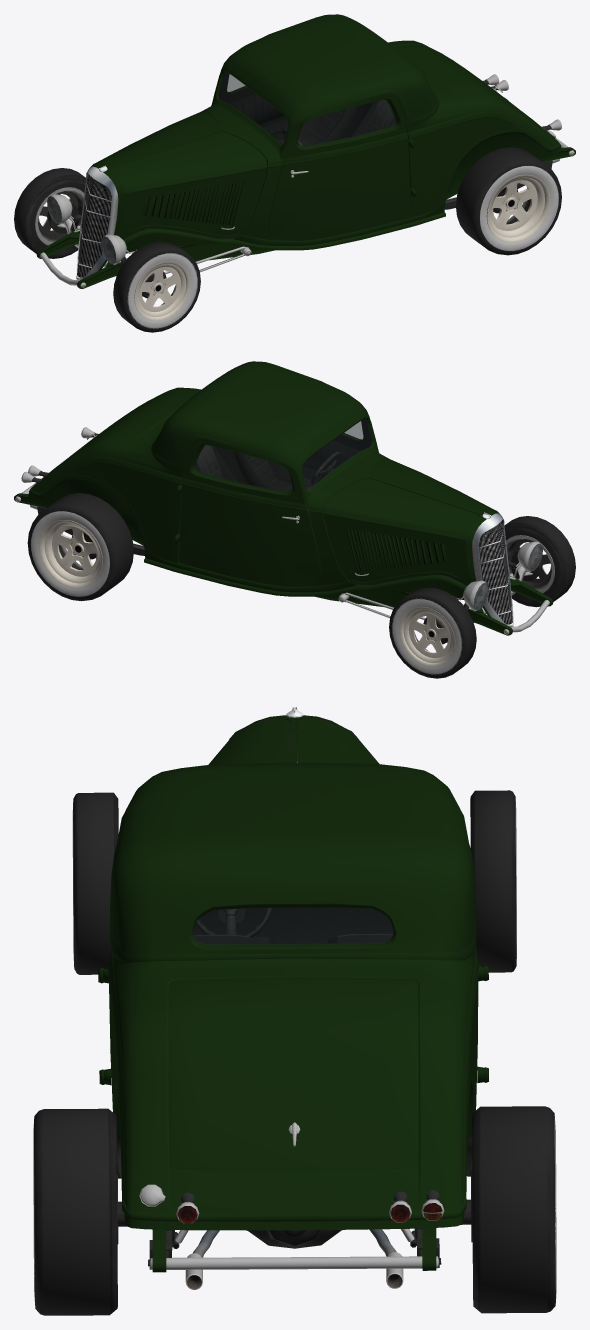
3 views of the same model, one above another, from view 1: azimuth 30°, elevation 25°; view 2: azimuth 150°, elevation 25°; view 3: azimuth 270°, elevation 25° (orthographic). The views are drawn at different scales.
Parts seen in each view (by area): view 1: body_body_0, Hood_body_0, door_left_body_0, Wheel_RL_wp_tire_01_0, Wheel_FL_wp_tire_01_0, Wheel_RL_RM5_Tourqe5sp_rim_0, Door_window_left_UCB_GLASS_CLEAN_0, Wheel_FR_wp_tire_01_0, Wheel_FL_RM5_Tourqe5sp_rim_0, Seats_GEN4DR_INTERIOR_0, Grill_ucb_grill_0, Trunkdoor_body_0 (+9 smaller); view 2: body_body_0, Hood_body_0, door_right_body_0, Wheel_RR_wp_tire_01_0, Wheel_FR_wp_tire_01_0, Wheel_RR_RM5_Tourqe5sp_rim_0, Door_window_right_UCB_GLASS_CLEAN_0, Wheel_FL_wp_tire_01_0, Seats_GEN4DR_INTERIOR_0, Wheel_FR_RM5_Tourqe5sp_rim_0, Grill_ucb_grill_0, frame (+10 smaller); view 3: body_body_0, Trunkdoor_body_0, Wheel_RR_wp_tire_01_0, Wheel_RL_wp_tire_01_0, Wheel_FR_wp_tire_01_0, Wheel_FL_wp_tire_01_0, Rear_window_UCB_GLASS_CLEAN_0, Hood_body_0, interior, Bottom_UCB_BOTTOM_DIF_0, suspension_UCB_BOTTOM_DIF_0, Taillights_UCB_BOTTOM_DIF_0 (+3 smaller).
Part boxes in pixels (x1,y1,x2,y2): body_body_0: (90, 14, 561, 270); Hood_body_0: (95, 111, 267, 239); door_left_body_0: (269, 93, 411, 240); Wheel_RL_wp_tire_01_0: (456, 147, 561, 255); Wheel_FL_wp_tire_01_0: (113, 241, 200, 332); Wheel_RL_RM5_Tourqe5sp_rim_0: (486, 174, 550, 242); Door_window_left_UCB_GLASS_CLEAN_0: (298, 100, 396, 146); Wheel_FR_wp_tire_01_0: (14, 168, 85, 258); Wheel_FL_RM5_Tourqe5sp_rim_0: (134, 261, 190, 321); Seats_GEN4DR_INTERIOR_0: (271, 99, 394, 145); Grill_ucb_grill_0: (77, 173, 111, 277); Trunkdoor_body_0: (394, 44, 533, 121); body_body_0: (28, 361, 499, 616); Hood_body_0: (323, 458, 494, 585); door_right_body_0: (178, 439, 320, 586); Wheel_RR_wp_tire_01_0: (27, 493, 133, 601); Wheel_FR_wp_tire_01_0: (389, 587, 476, 678); Wheel_RR_RM5_Tourqe5sp_rim_0: (39, 520, 102, 588); Door_window_right_UCB_GLASS_CLEAN_0: (194, 445, 292, 492); Wheel_FL_wp_tire_01_0: (504, 516, 575, 607); Seats_GEN4DR_INTERIOR_0: (195, 445, 314, 491); Wheel_FR_RM5_Tourqe5sp_rim_0: (399, 606, 455, 667); Grill_ucb_grill_0: (479, 520, 512, 624); frame: (14, 493, 553, 635); body_body_0: (98, 715, 488, 1230); Trunkdoor_body_0: (168, 977, 418, 1171); Wheel_RR_wp_tire_01_0: (472, 1106, 556, 1313); Wheel_RL_wp_tire_01_0: (33, 1108, 117, 1315); Wheel_FR_wp_tire_01_0: (470, 790, 516, 972); Wheel_FL_wp_tire_01_0: (72, 792, 118, 974); Rear_window_UCB_GLASS_CLEAN_0: (193, 908, 393, 944); Hood_body_0: (208, 719, 379, 764); interior: (192, 907, 393, 943); Bottom_UCB_BOTTOM_DIF_0: (117, 707, 472, 1269); suspension_UCB_BOTTOM_DIF_0: (116, 1173, 472, 1269); Taillights_UCB_BOTTOM_DIF_0: (176, 1190, 444, 1223).
Bounding box in the file's own units: 4.2 × 1.59 × 1.98.
Materials: 8 (7 with a texture image).
